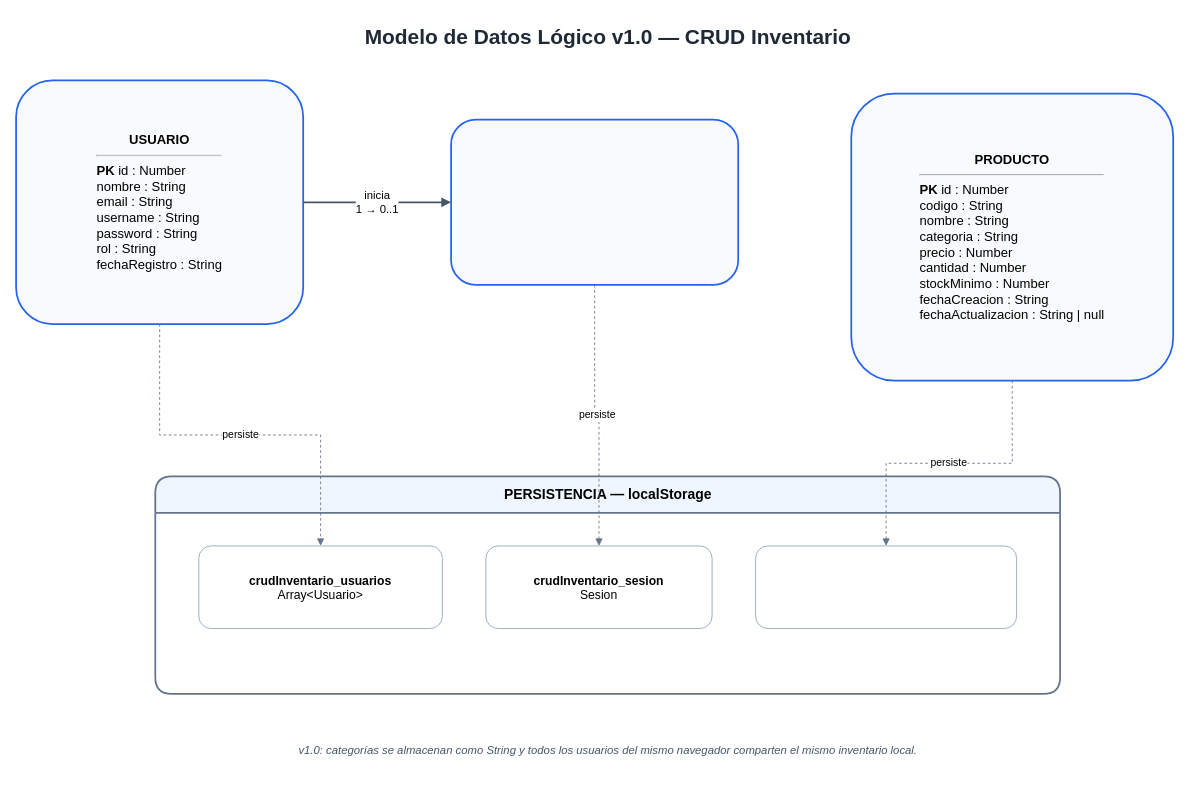
Image size: 1188x786. Some labels were removed from this diagram. The shapes that lost their labels are listed below. From the top down, each one's centre as x and y in pixels, then its label:
At (x=594, y=201): "SESIÓN usuarioId : Number username : String fechaInicio : String".
At (x=886, y=587): "crudInventario_productos Array<Producto>".
